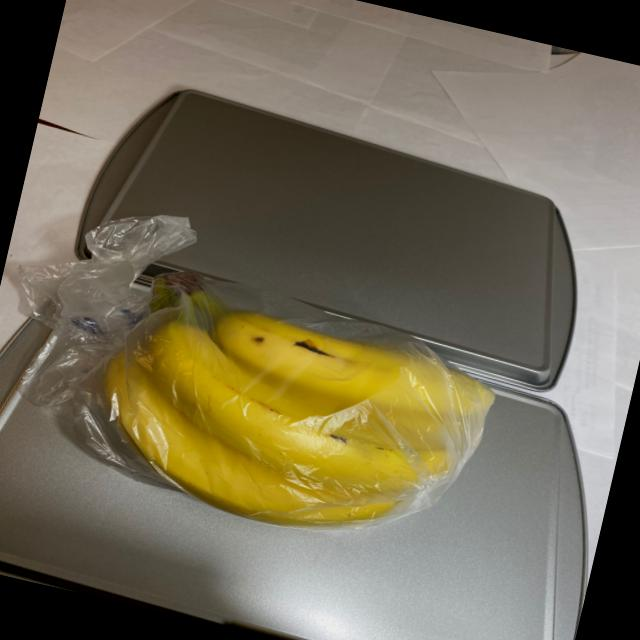banana: (75, 244, 512, 574)
